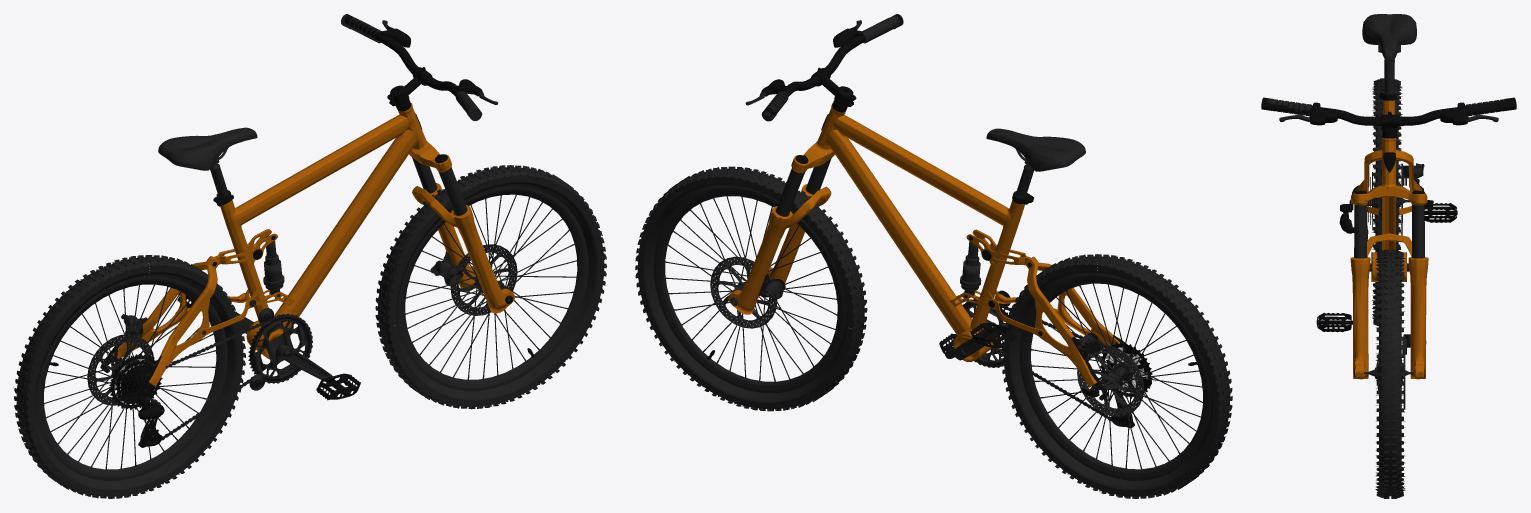
Rendered from BicycleSkeleton.fbx.
3 views of the same model, side by side, from view 1: azimuth 30°, elevation 25°; view 2: azimuth 150°, elevation 25°; view 3: azimuth 270°, elevation 25° (orthographic). The views are drawn at different scales.
Parts seen in each view (by area): view 1: WheelBackMesh, WheelFrontMesh, FrameMesh, HandleMesh, PedalMesh; view 2: WheelBackMesh, WheelFrontMesh, FrameMesh, HandleMesh, PedalMesh; view 3: HandleMesh, WheelFrontMesh, FrameMesh, WheelBackMesh, PedalMesh.
Part boxes in pixels (x1,y1,x2,y2): WheelBackMesh: (14, 255, 245, 498); WheelFrontMesh: (375, 165, 606, 409); FrameMesh: (100, 103, 427, 447); HandleMesh: (341, 14, 514, 313); PedalMesh: (177, 295, 360, 400); WheelBackMesh: (1001, 254, 1232, 498); WheelFrontMesh: (635, 166, 867, 411); FrameMesh: (816, 103, 1151, 428); HandleMesh: (728, 14, 903, 314); PedalMesh: (939, 301, 1015, 365); HandleMesh: (1261, 97, 1516, 379); WheelFrontMesh: (1354, 249, 1424, 498); FrameMesh: (1339, 14, 1433, 281); WheelBackMesh: (1367, 78, 1410, 326); PedalMesh: (1316, 203, 1457, 332).
Size of the model in its own units: 199 by 77.64 by 118.
